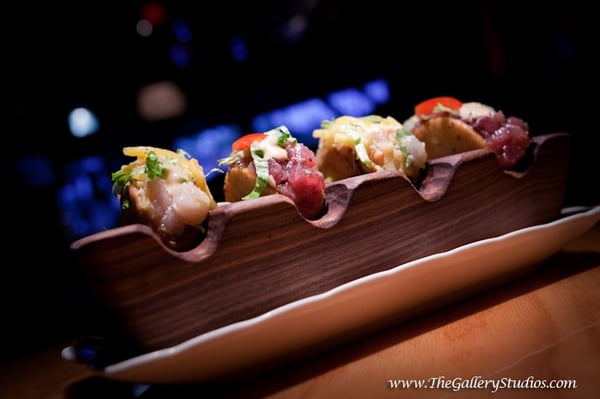soup: (111, 146, 215, 245)
